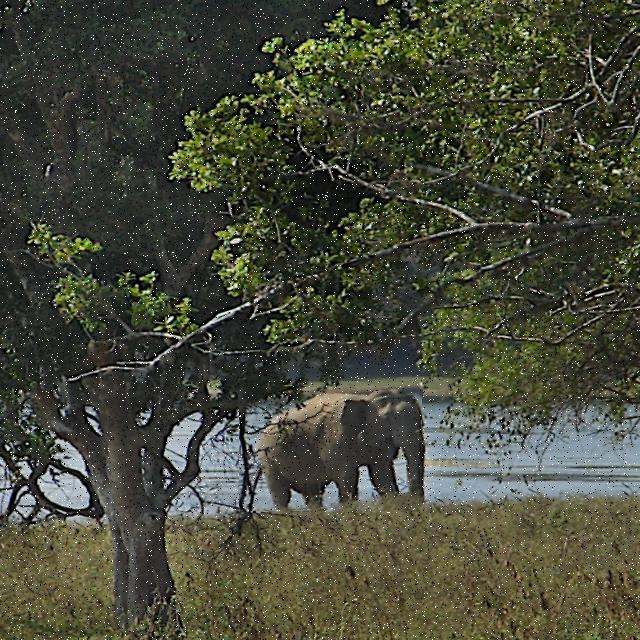elephant: (239, 386, 423, 512)
